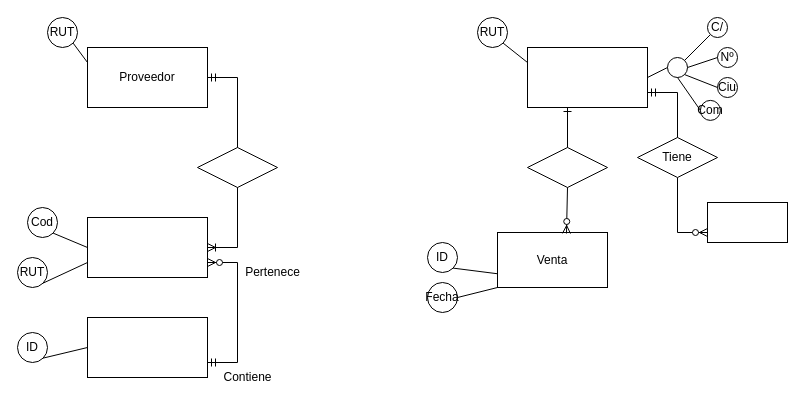
Some shapes in this 805 by 405 pixel diagram are drawn without their labels. Here are the shapes that lost their labels. From the top down, the box of each, then its label:
(526, 46, 648, 108): Cliente
(666, 56, 688, 78): Dir
(196, 146, 278, 188): Suministra
(526, 146, 608, 188): Participa
(706, 202, 788, 242): Teléfono de contacto
(86, 216, 208, 278): Producto
(86, 316, 208, 378): Categoria
